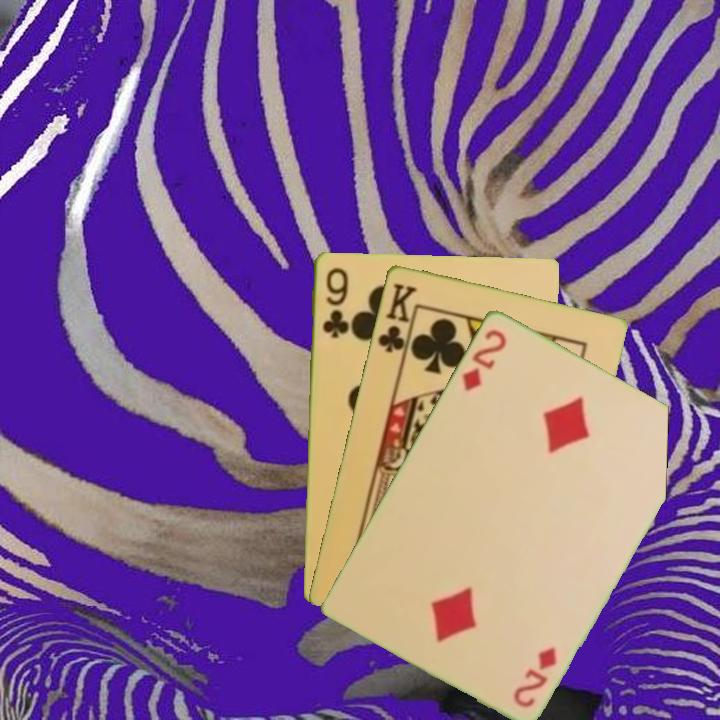2d: (458, 325, 509, 394), (509, 642, 560, 710)
9c: (318, 264, 350, 341)
Kc: (374, 279, 420, 361)
